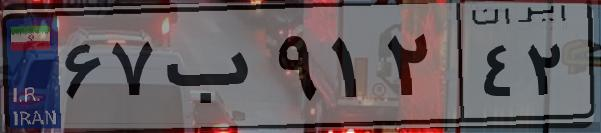1: (330, 28, 385, 110)
2: (385, 28, 445, 110), (525, 38, 570, 115)
4: (475, 38, 525, 113)
6: (57, 26, 110, 100)
7: (110, 28, 158, 98)
9: (270, 28, 330, 110)
ب: (158, 20, 270, 120)
